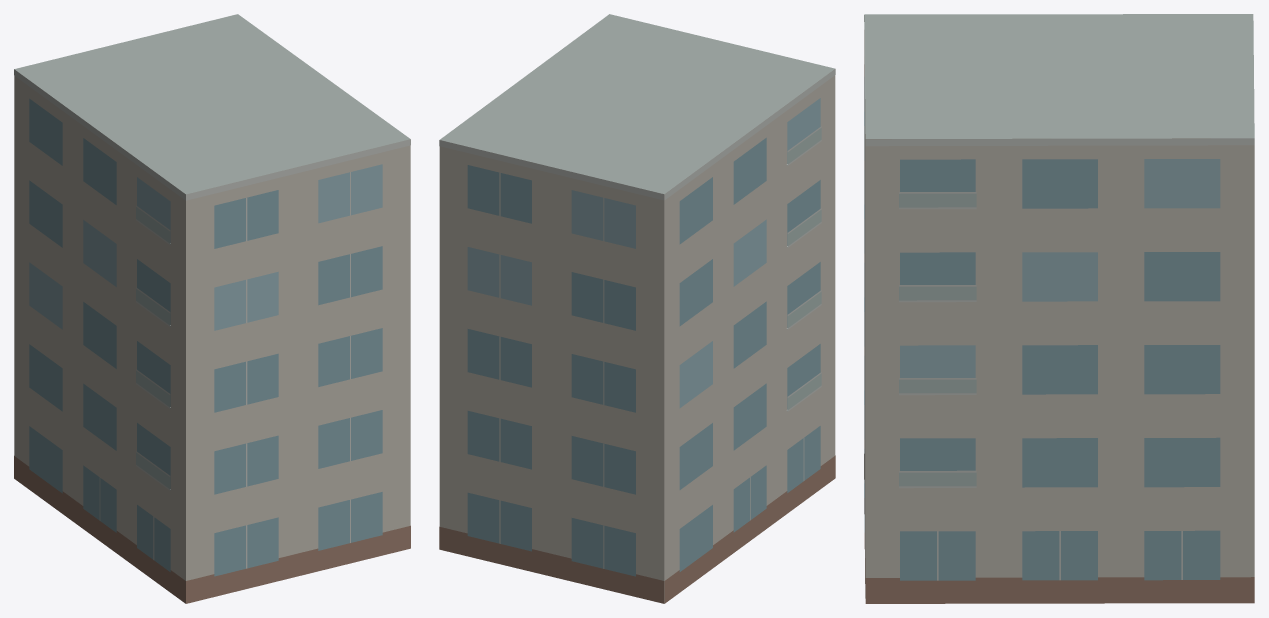
File: survey-upis-32967687.glb
The picture shows the model from 3 angles, left to right: view 1: azimuth 30°, elevation 25°; view 2: azimuth 150°, elevation 25°; view 3: azimuth 270°, elevation 25°; orthographic projection. The views are drawn at different scales.
Visible parts, largest first — view 1: survey-upis-32967687.tmp; view 2: survey-upis-32967687.tmp; view 3: survey-upis-32967687.tmp.
Boxes of the visible parts, left/top/right/bottom form: survey-upis-32967687.tmp: left=14, top=14, right=410, bottom=603; survey-upis-32967687.tmp: left=439, top=14, right=835, bottom=603; survey-upis-32967687.tmp: left=864, top=14, right=1254, bottom=603.
Bounding box in the file's own units: 9.27 × 15.95 × 12.15.
